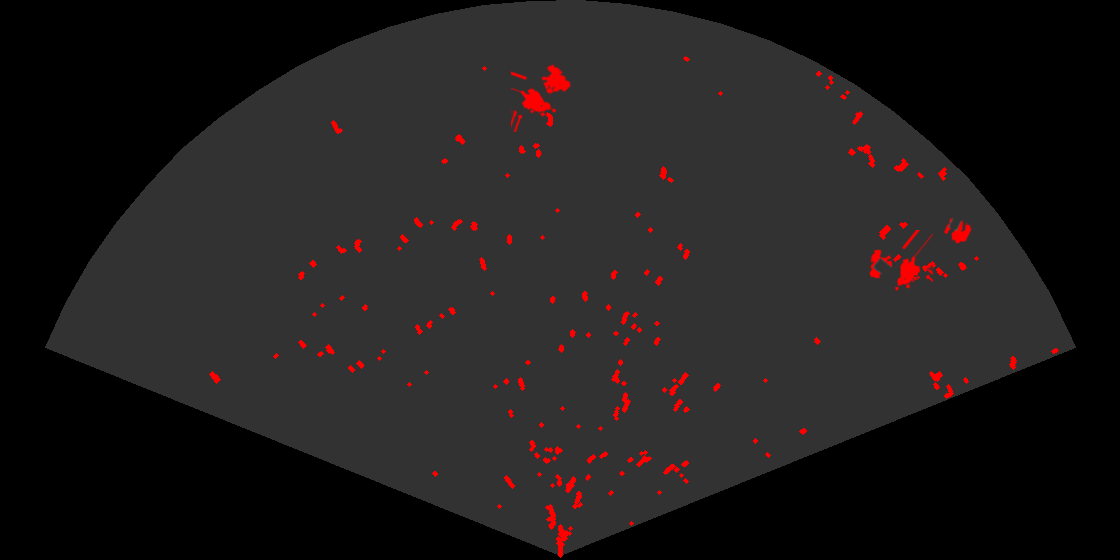ball: (942, 216, 973, 245)
cage: (511, 63, 573, 132), (868, 230, 933, 292)
